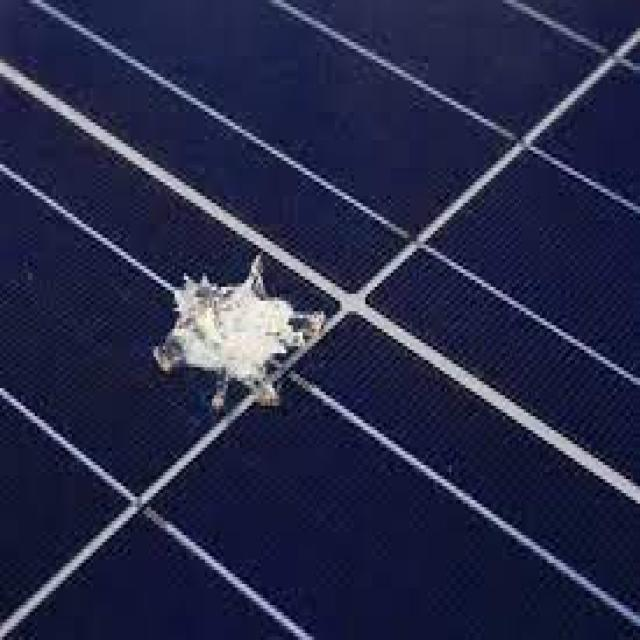Bird-drop: (148, 250, 328, 409)
